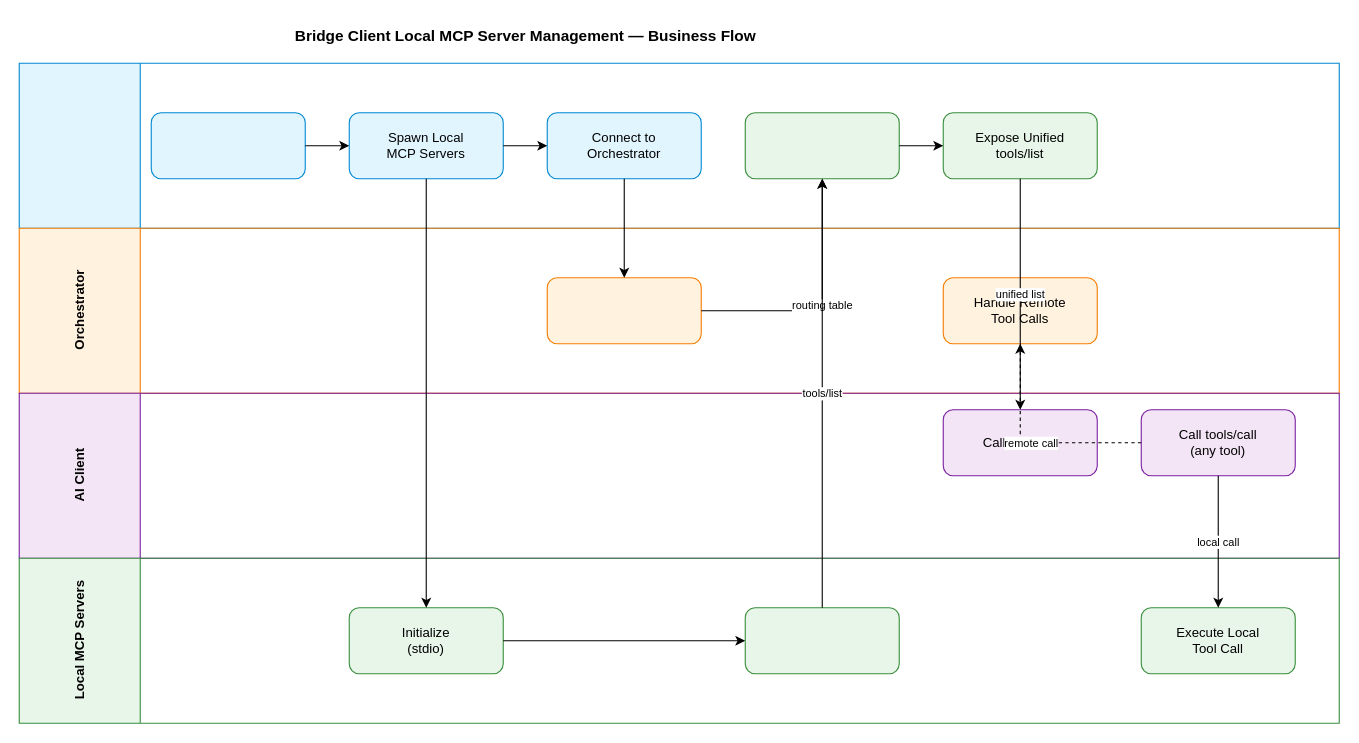
Image size: 1359x743. Some labels were removed from this diagram. Each missing label, with the box of its shape:
Bridge Client: (18, 62, 1339, 228)
Merge Tools (Local + Remote): (744, 112, 899, 179)
Read mcp-servers.json: (150, 112, 305, 179)
Report Tools (tools/list): (744, 607, 899, 674)
Send Routing Table: (546, 277, 701, 344)
